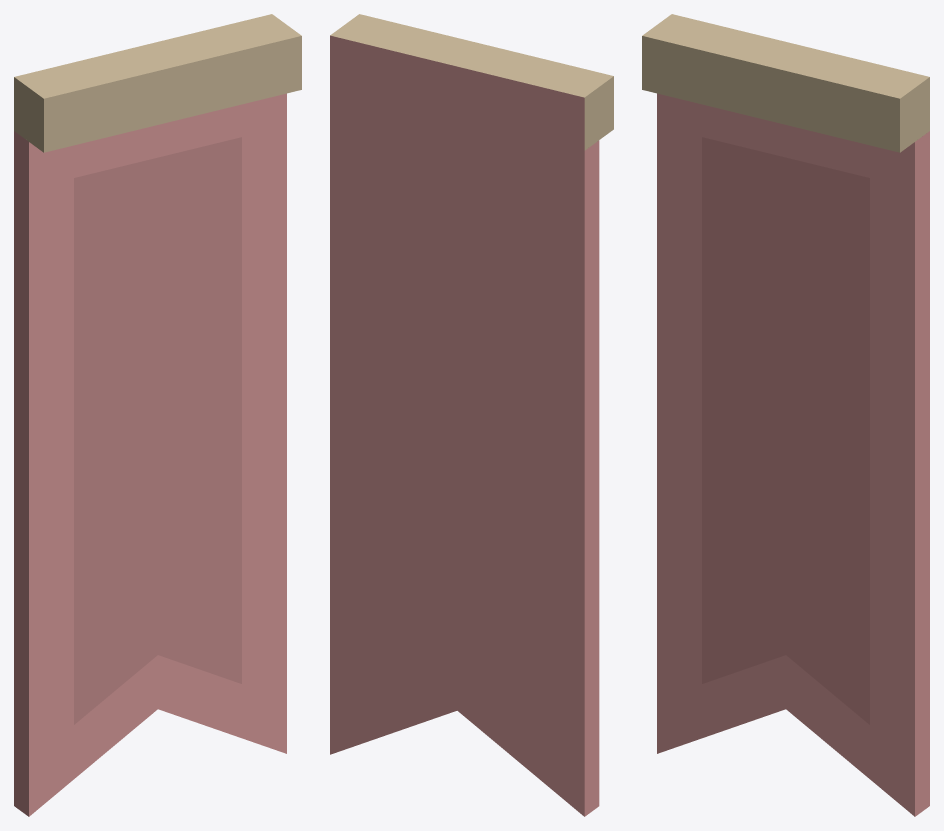
File: Banner_01.glb
3 views of the same model, side by side, from view 1: azimuth 30°, elevation 25°; view 2: azimuth 150°, elevation 25°; view 3: azimuth 330°, elevation 25° (orthographic).
Parts seen in each view (by area): view 1: Banner_01; view 2: Banner_01; view 3: Banner_01.
Part boxes in pixels (box(x1,y1,x2,y2)): Banner_01: box(14, 14, 301, 816); Banner_01: box(330, 14, 613, 816); Banner_01: box(642, 14, 929, 816).
Size of the model in its own units: 1 by 2.7 by 0.2.
